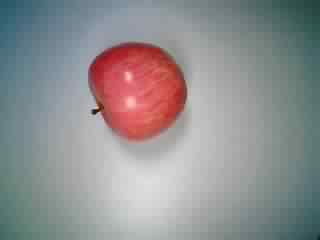apple: (82, 41, 187, 143)
